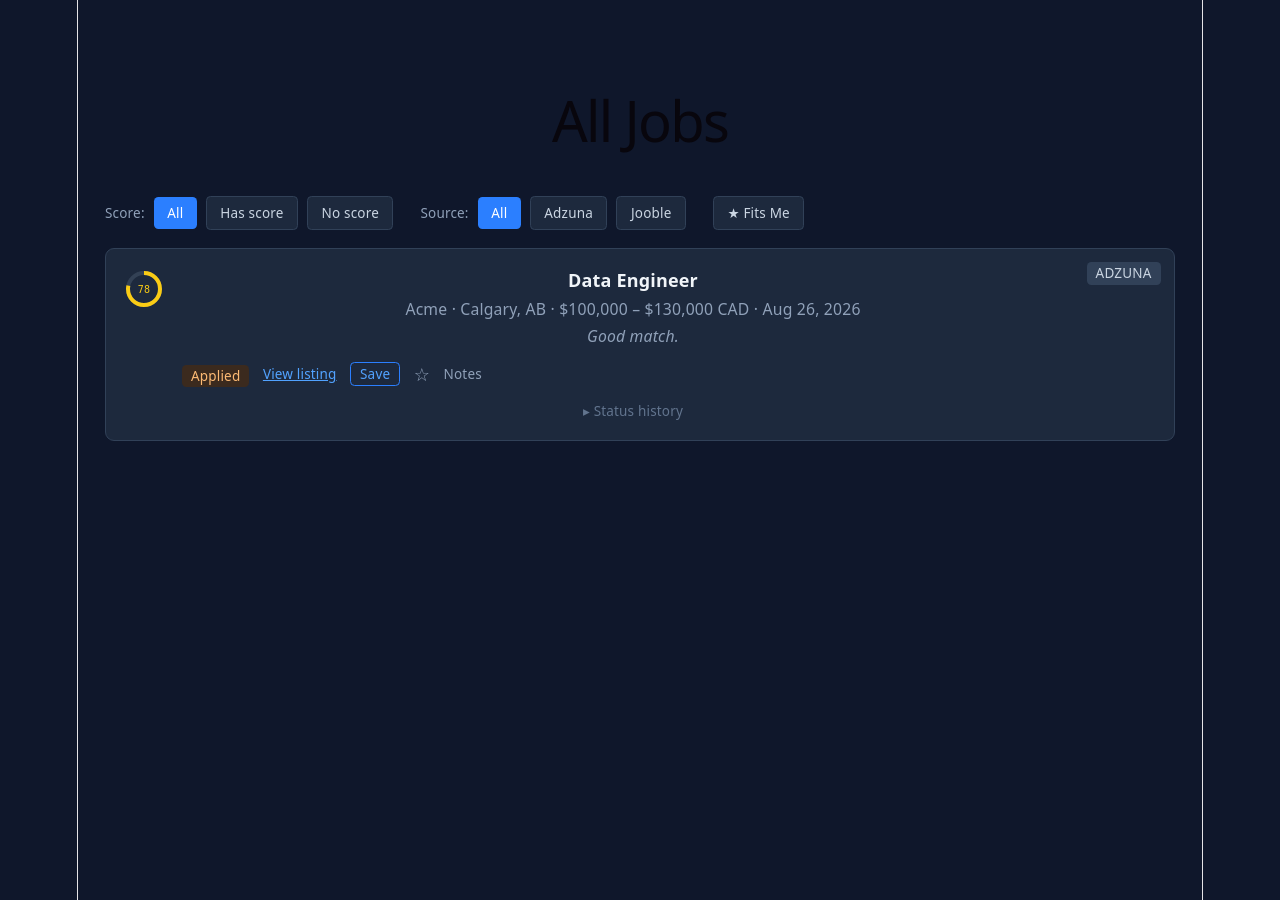
AllJobs › renders status_history from the initial GET /jobs/ fetch, with no status-change PATCH in this session
Expected: the text "Data Engineer" is shown, x1=568 y1=268 x2=698 y2=292
Step 1. Click the button "▸ Status history" → (633, 411), box x1=583 y1=402 x2=683 y2=420
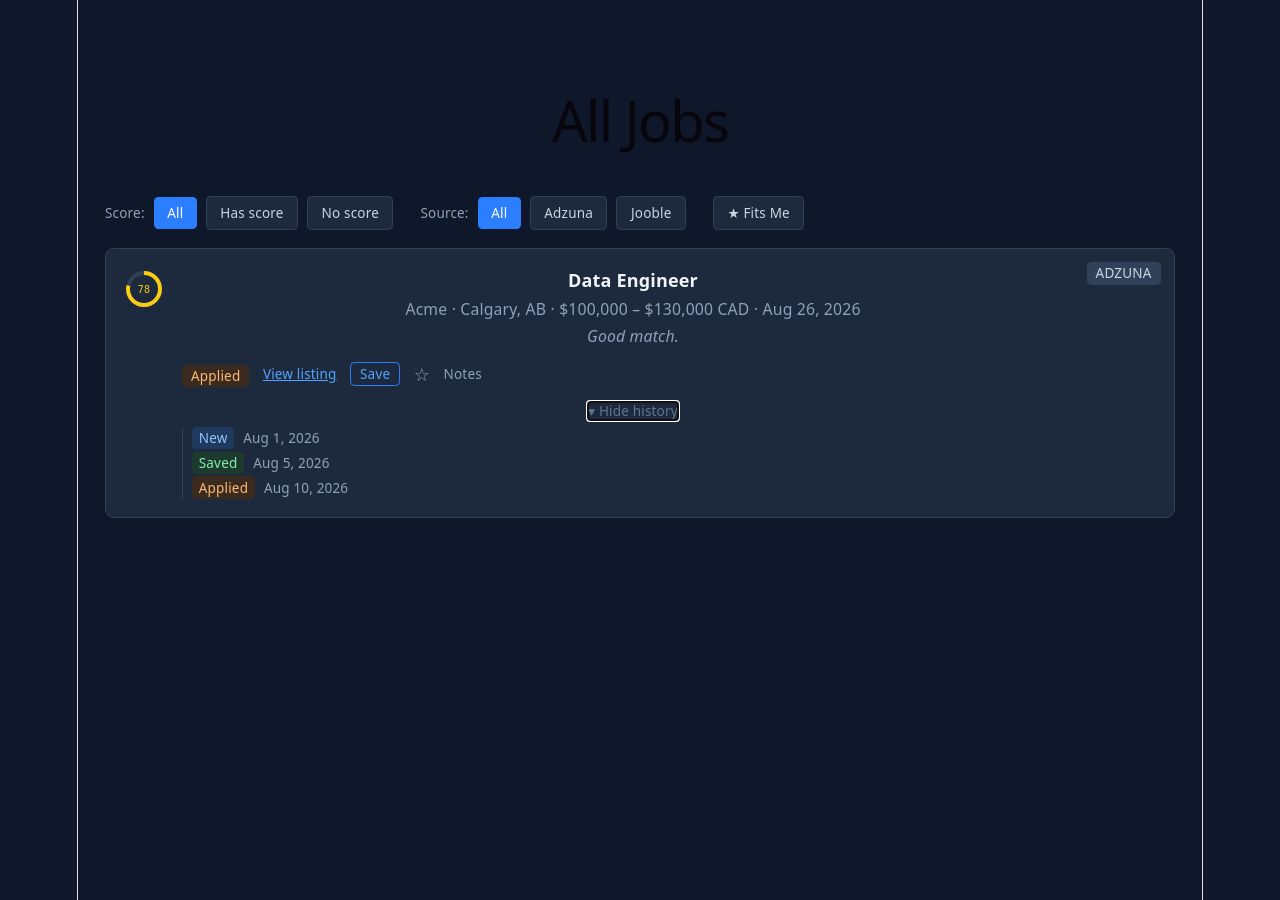
Now the button named "status history" is expanded, box x1=588 y1=402 x2=678 y2=420
Now the text "New" is shown, box x1=192 y1=427 x2=234 y2=449
Now the text "Saved" is shown, box x1=192 y1=452 x2=244 y2=474
